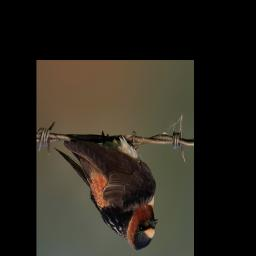Swallow: (53, 131, 159, 252)
